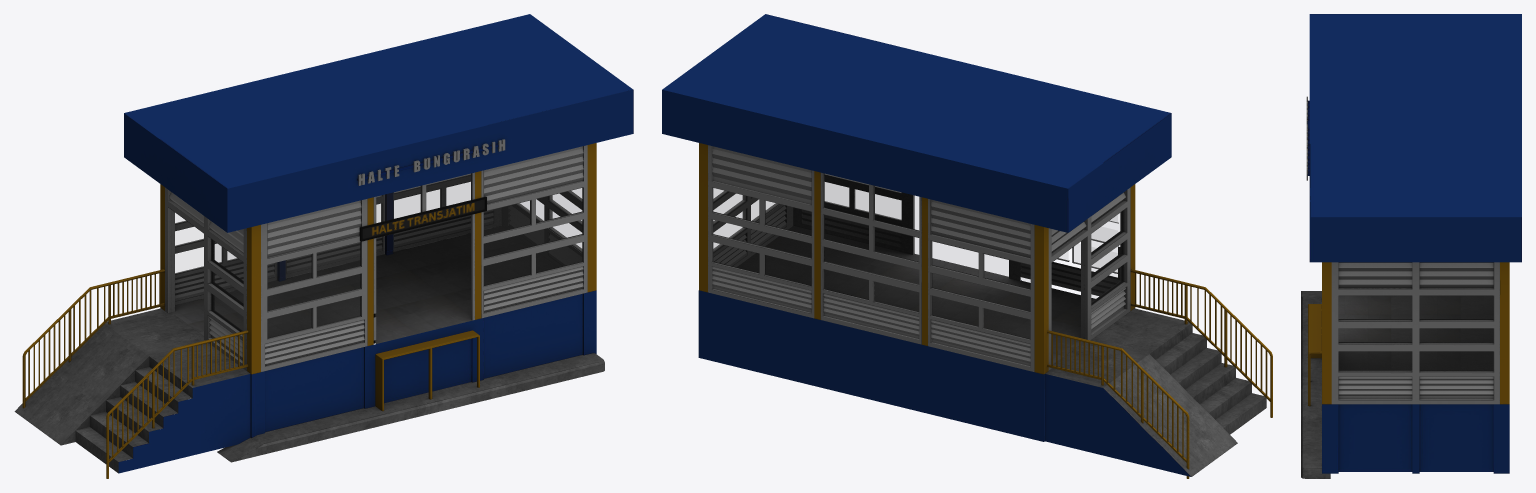
File: haltebungurasih.glb
The picture shows the model from 3 angles, left to right: view 1: azimuth 30°, elevation 25°; view 2: azimuth 150°, elevation 25°; view 3: azimuth 270°, elevation 25°; orthographic projection. The views are drawn at different scales.
Visible parts, largest first — view 1: piece_1, piece_9, piece_0, piece_11, piece_10, piece_3, piece_5, piece_13, piece_2, piece_4, piece_14, piece_7 (+1 smaller); view 2: piece_1, piece_9, piece_0, piece_11, piece_10, piece_5, piece_13, piece_2; view 3: piece_1, piece_9, piece_10, piece_0, piece_3, piece_13, piece_4.
Boxes of the visible parts, x1,y1,x2,y2 form: piece_1: (118, 14, 633, 473); piece_9: (165, 145, 587, 371); piece_0: (169, 146, 583, 365); piece_11: (14, 308, 250, 473); piece_10: (172, 225, 558, 343); piece_3: (217, 353, 604, 462); piece_5: (22, 269, 248, 478); piece_13: (160, 143, 596, 374); piece_2: (214, 174, 582, 263); piece_4: (375, 330, 479, 411); piece_14: (362, 199, 484, 239); piece_7: (358, 139, 505, 185); piece_1: (662, 14, 1190, 476); piece_9: (708, 145, 1130, 371); piece_0: (712, 146, 1125, 366); piece_11: (1045, 308, 1266, 476); piece_10: (737, 225, 1095, 364); piece_5: (1047, 269, 1272, 478); piece_13: (699, 143, 1135, 374); piece_2: (713, 174, 1117, 273); piece_1: (1309, 14, 1521, 473); piece_9: (1331, 262, 1499, 404); piece_10: (1338, 295, 1493, 370); piece_0: (1338, 262, 1493, 398); piece_3: (1301, 291, 1330, 478); piece_13: (1322, 262, 1509, 404); piece_4: (1308, 304, 1321, 406).
Bounding box in the file's own units: 17.32 × 8.57 × 6.18.
15 materials, 14 textured.
